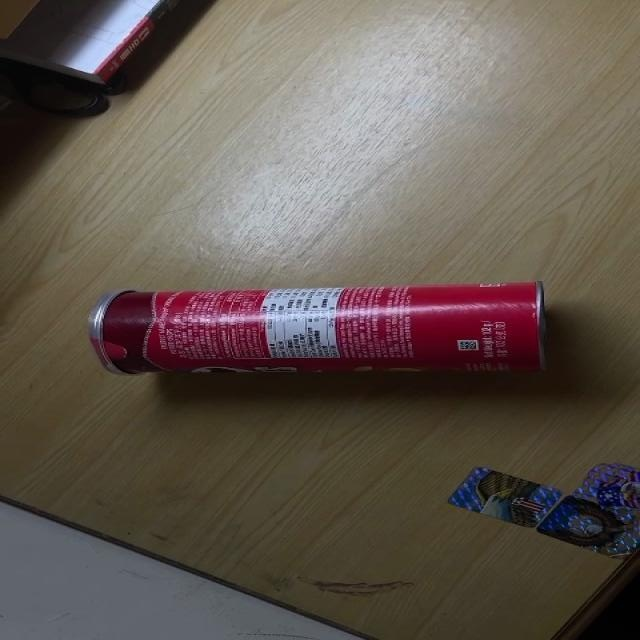Pringles: (89, 279, 551, 376)
